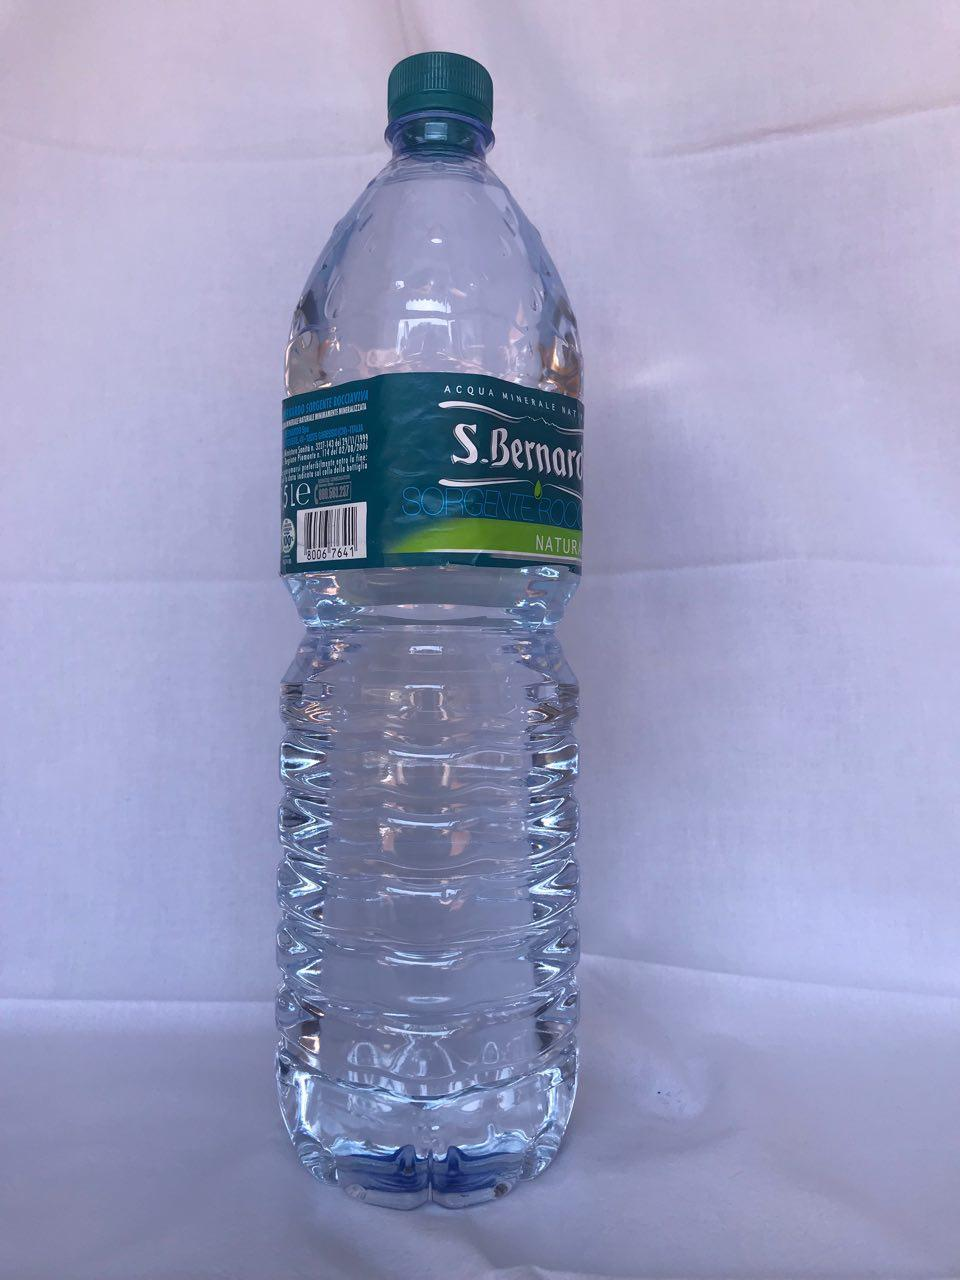san_bernardo: (271, 48, 587, 1212)
